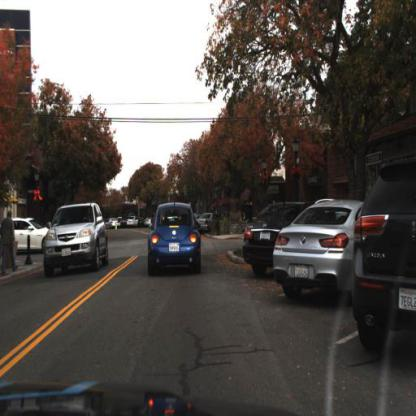car: (351, 146, 416, 357), (271, 191, 366, 298), (41, 201, 109, 279), (240, 196, 312, 269), (144, 200, 204, 283), (8, 213, 55, 258), (108, 216, 121, 230), (128, 215, 138, 229)
pedestrian: (2, 209, 19, 277)
